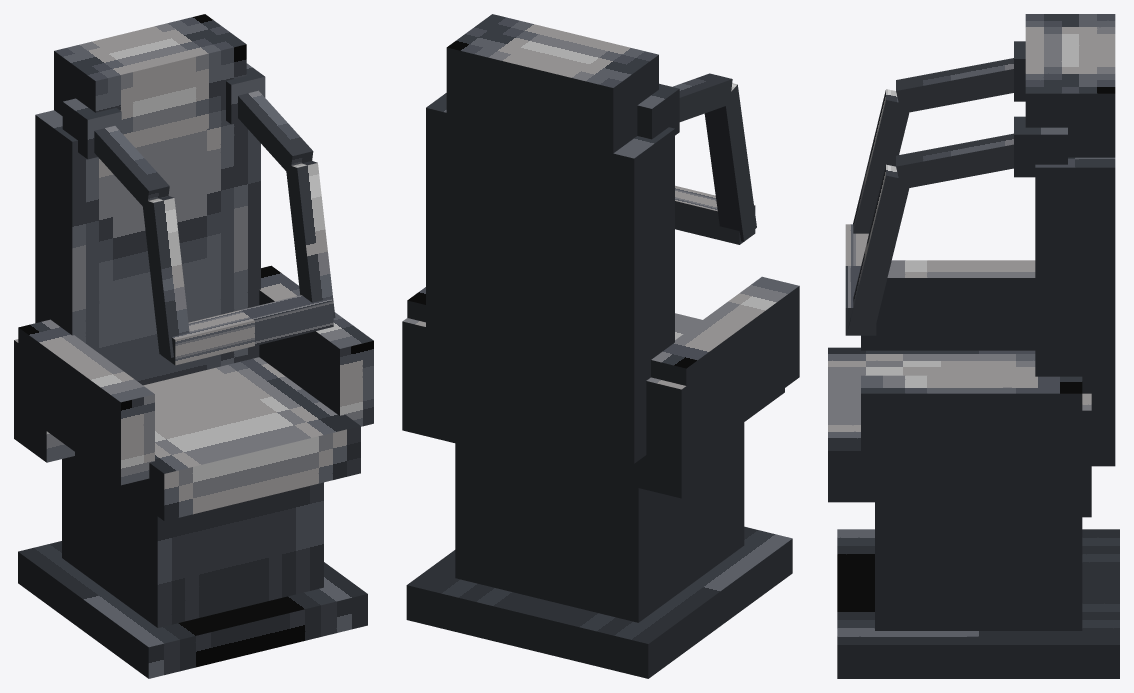
The model's file is shuttle_seat.glb.
3 renders of one model, left to right at view 1: azimuth 30°, elevation 25°; view 2: azimuth 150°, elevation 25°; view 3: azimuth 270°, elevation 25°, orthographic. The views are drawn at different scales.
Parts seen in each view (by area): view 1: Seat_And_Hinge_Brackets, Safety_Restraint; view 2: Seat_And_Hinge_Brackets, Safety_Restraint; view 3: Seat_And_Hinge_Brackets, Safety_Restraint.
Boxes of the visible parts, x1,y1,x2,y2 form: Seat_And_Hinge_Brackets: [14, 14, 373, 678]; Safety_Restraint: [94, 90, 335, 365]; Seat_And_Hinge_Brackets: [402, 14, 799, 678]; Safety_Restraint: [672, 73, 756, 244]; Seat_And_Hinge_Brackets: [828, 14, 1119, 678]; Safety_Restraint: [845, 58, 1013, 335].
Bounding box in the file's own units: 0.67 × 1.33 × 0.62.
Materials: 1 (1 with a texture image).
